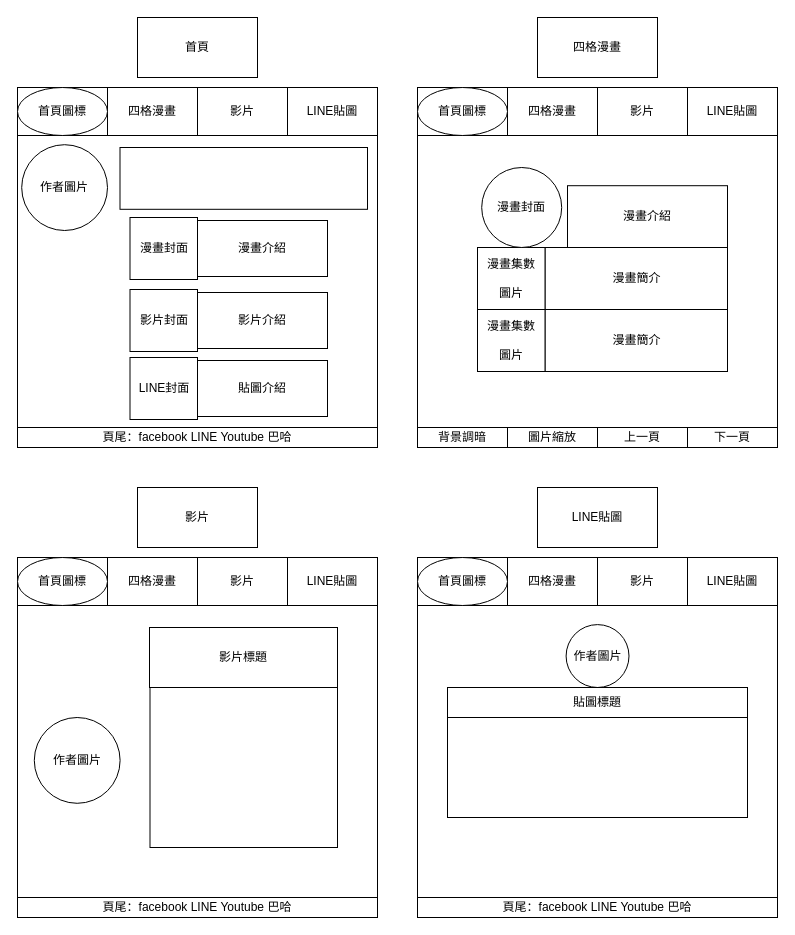
The diagram is 795 pixels wide and 935 high, and some of its shapes have lost their labels. The box of each missing label's shape, as (x1, y1, x2, y2) in pixels:
作者的話: (119, 146, 368, 209)
嵌入式影片: (149, 686, 338, 848)
貼圖1: (446, 686, 748, 818)
